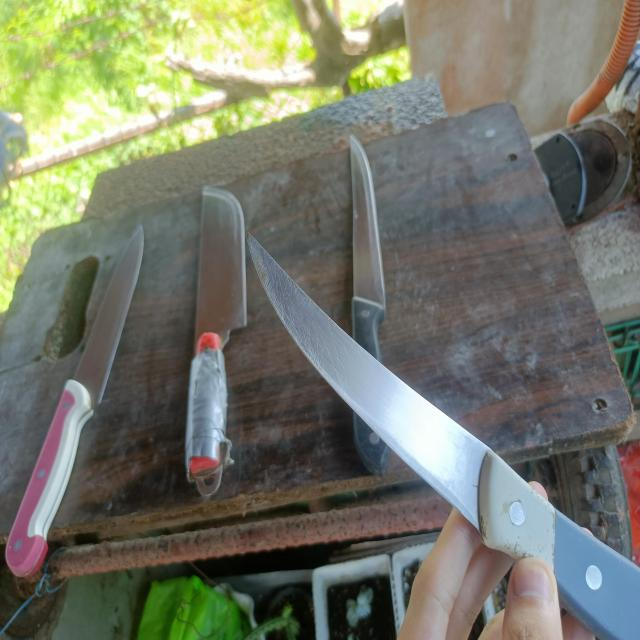knife: (247, 232, 640, 635)
